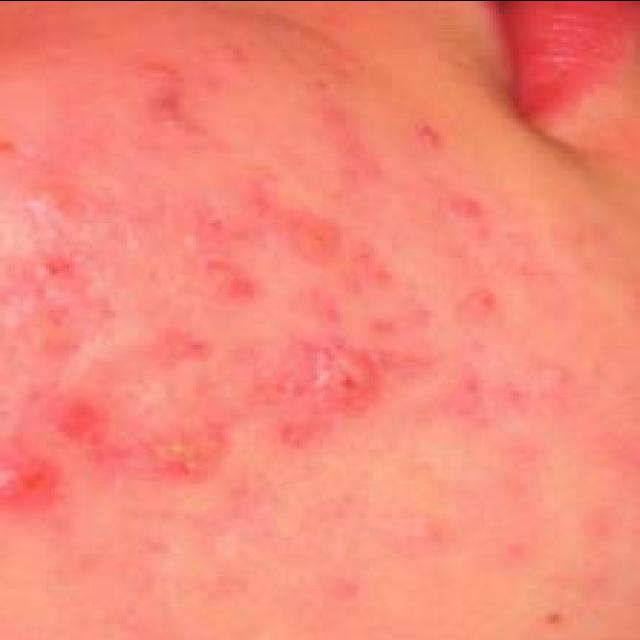Acne: (301, 334, 387, 420), (127, 421, 225, 480), (0, 435, 64, 519), (438, 374, 534, 428), (128, 57, 190, 127), (279, 212, 351, 268), (190, 260, 266, 312), (44, 396, 114, 446), (22, 245, 82, 292), (453, 282, 502, 324), (404, 115, 452, 154)
